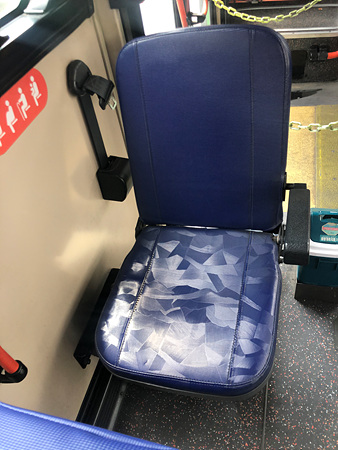seat: (100, 29, 282, 389)
